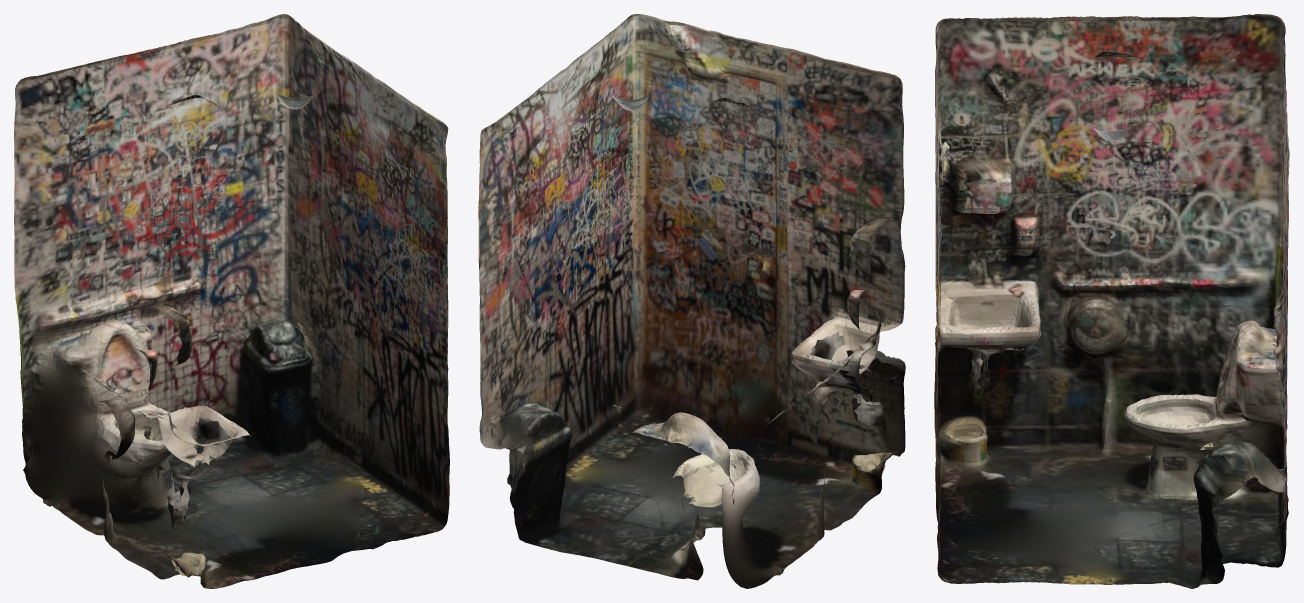
File: toilet.glb
3 views of the same model, side by side, from view 1: azimuth 30°, elevation 25°; view 2: azimuth 150°, elevation 25°; view 3: azimuth 270°, elevation 25° (orthographic). The views are drawn at different scales.
Parts seen in each view (by area): view 1: Mesh_0; view 2: Mesh_0; view 3: Mesh_0.
Part boxes in pixels (x1,y1,x2,y2): Mesh_0: (14, 14, 449, 588); Mesh_0: (478, 14, 905, 588); Mesh_0: (934, 14, 1289, 588).
Size of the model in its own units: 1.64 by 2.34 by 1.68.
1 material, 1 textured.
